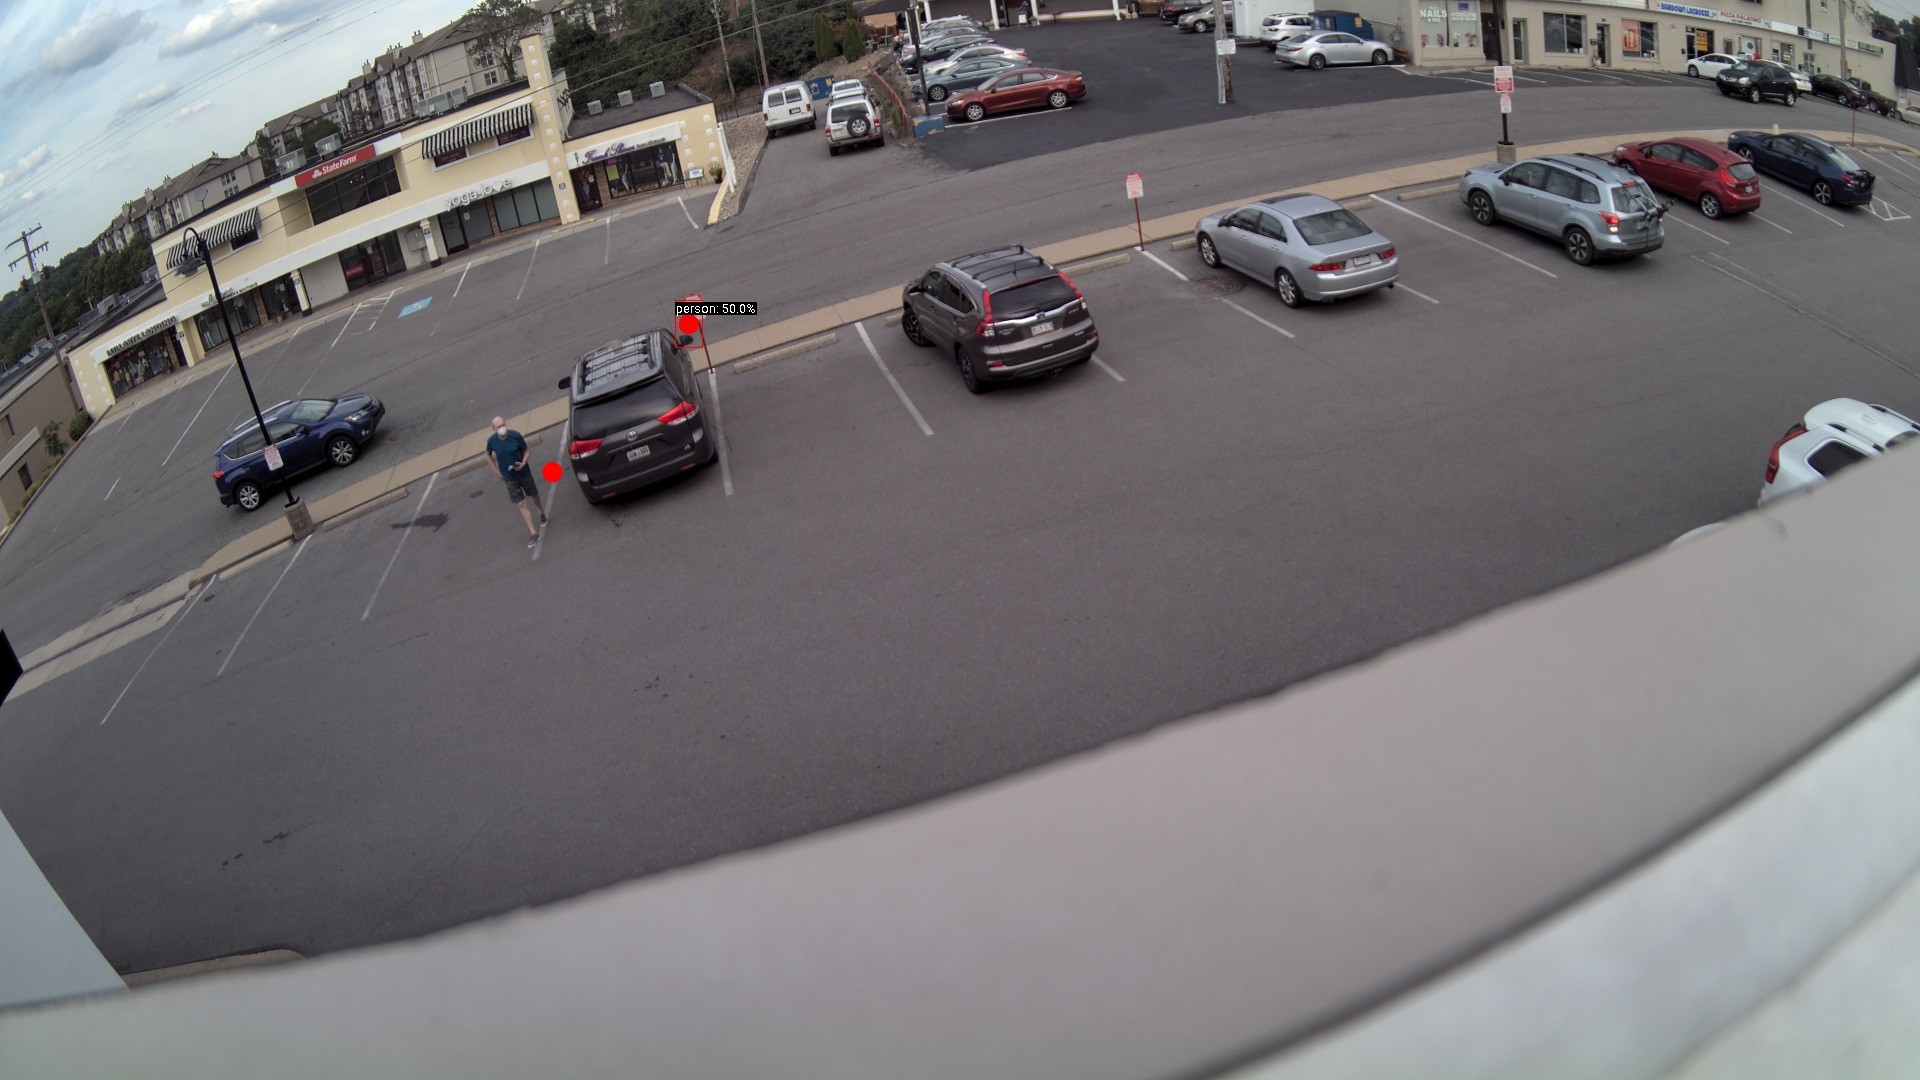person: (486, 418, 553, 559)
